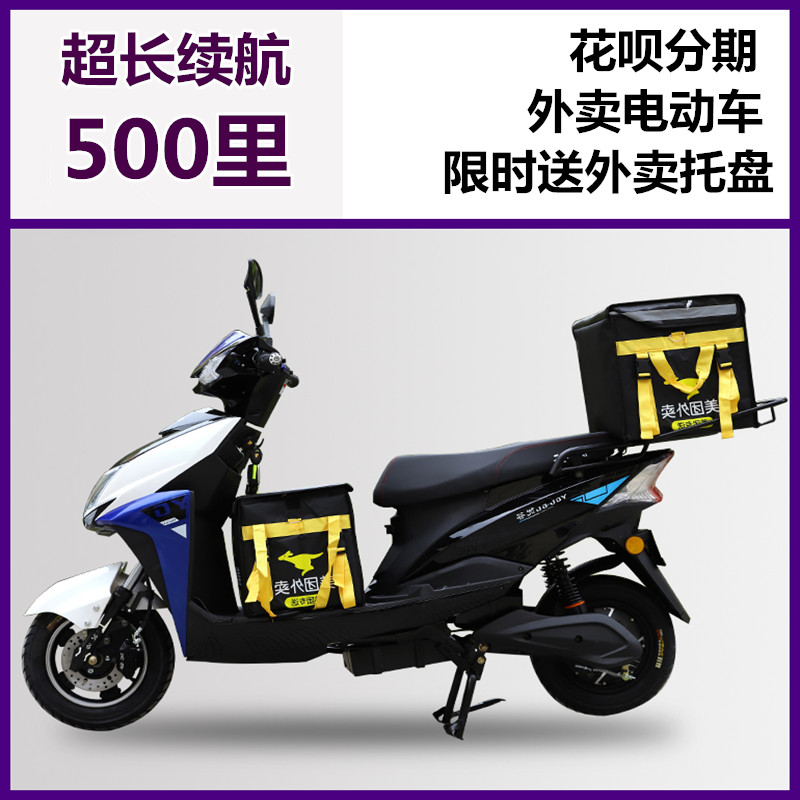电动车: (17, 255, 794, 745)
